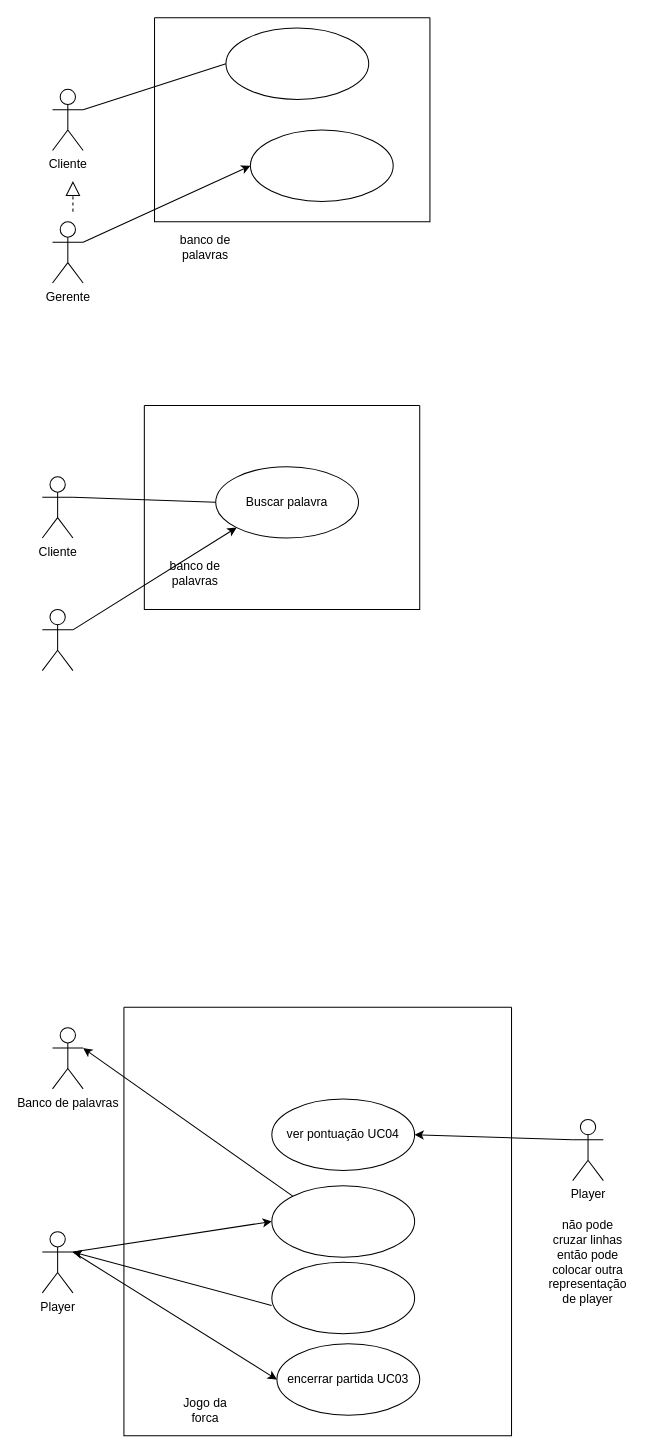
Some shapes in this 645 by 1454 pixel diagram are drawn without their labels. The centre of each missing label's shape, as x and y in pixels:
funcionário: pixel 57 639
iniciar partida UC01: pixel 343 1221
Liberar desconto: pixel 321 165
Selecionar Letra UC02: pixel 343 1297
Vender: pixel 297 63
